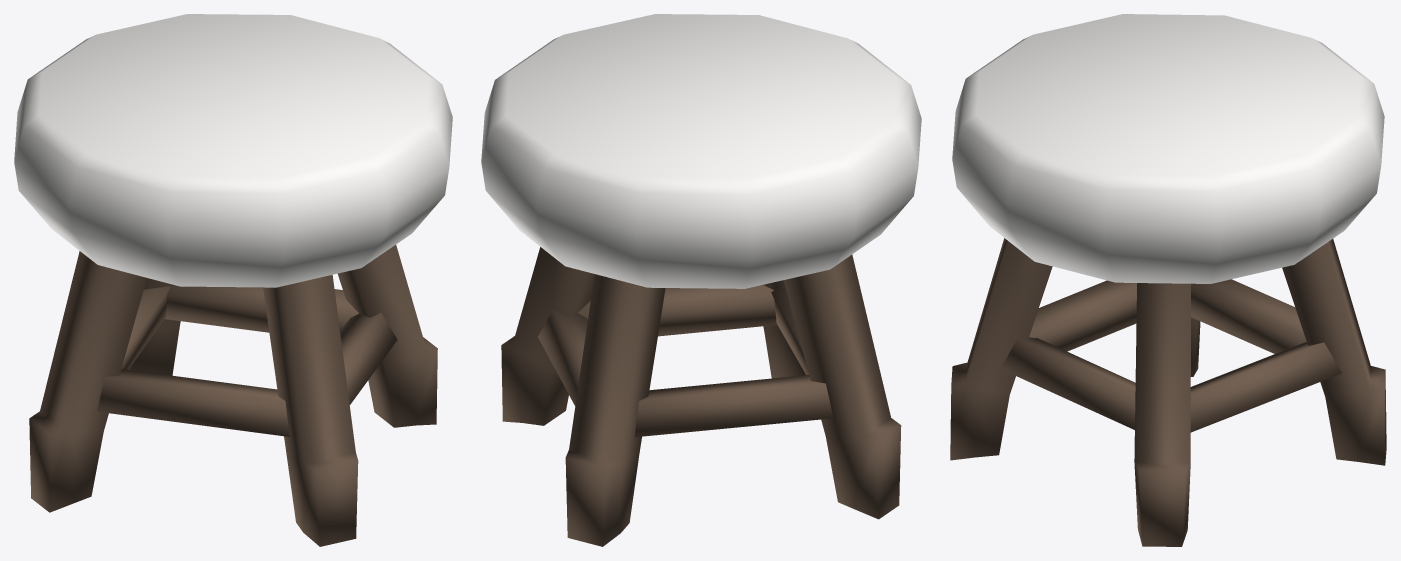
The model's file is Stool_Round.fbx.
3 views of the same model, side by side, from view 1: azimuth 30°, elevation 25°; view 2: azimuth 150°, elevation 25°; view 3: azimuth 270°, elevation 25° (orthographic).
Visible parts, largest first — view 1: Stool_Round.001; view 2: Stool_Round.001; view 3: Stool_Round.001.
Part boxes in pixels (<box>): Stool_Round.001: <box>14,14,452,546</box>; Stool_Round.001: <box>481,14,921,546</box>; Stool_Round.001: <box>950,14,1386,546</box>.
Bounding box in the file's own units: 316 × 289 × 318.
